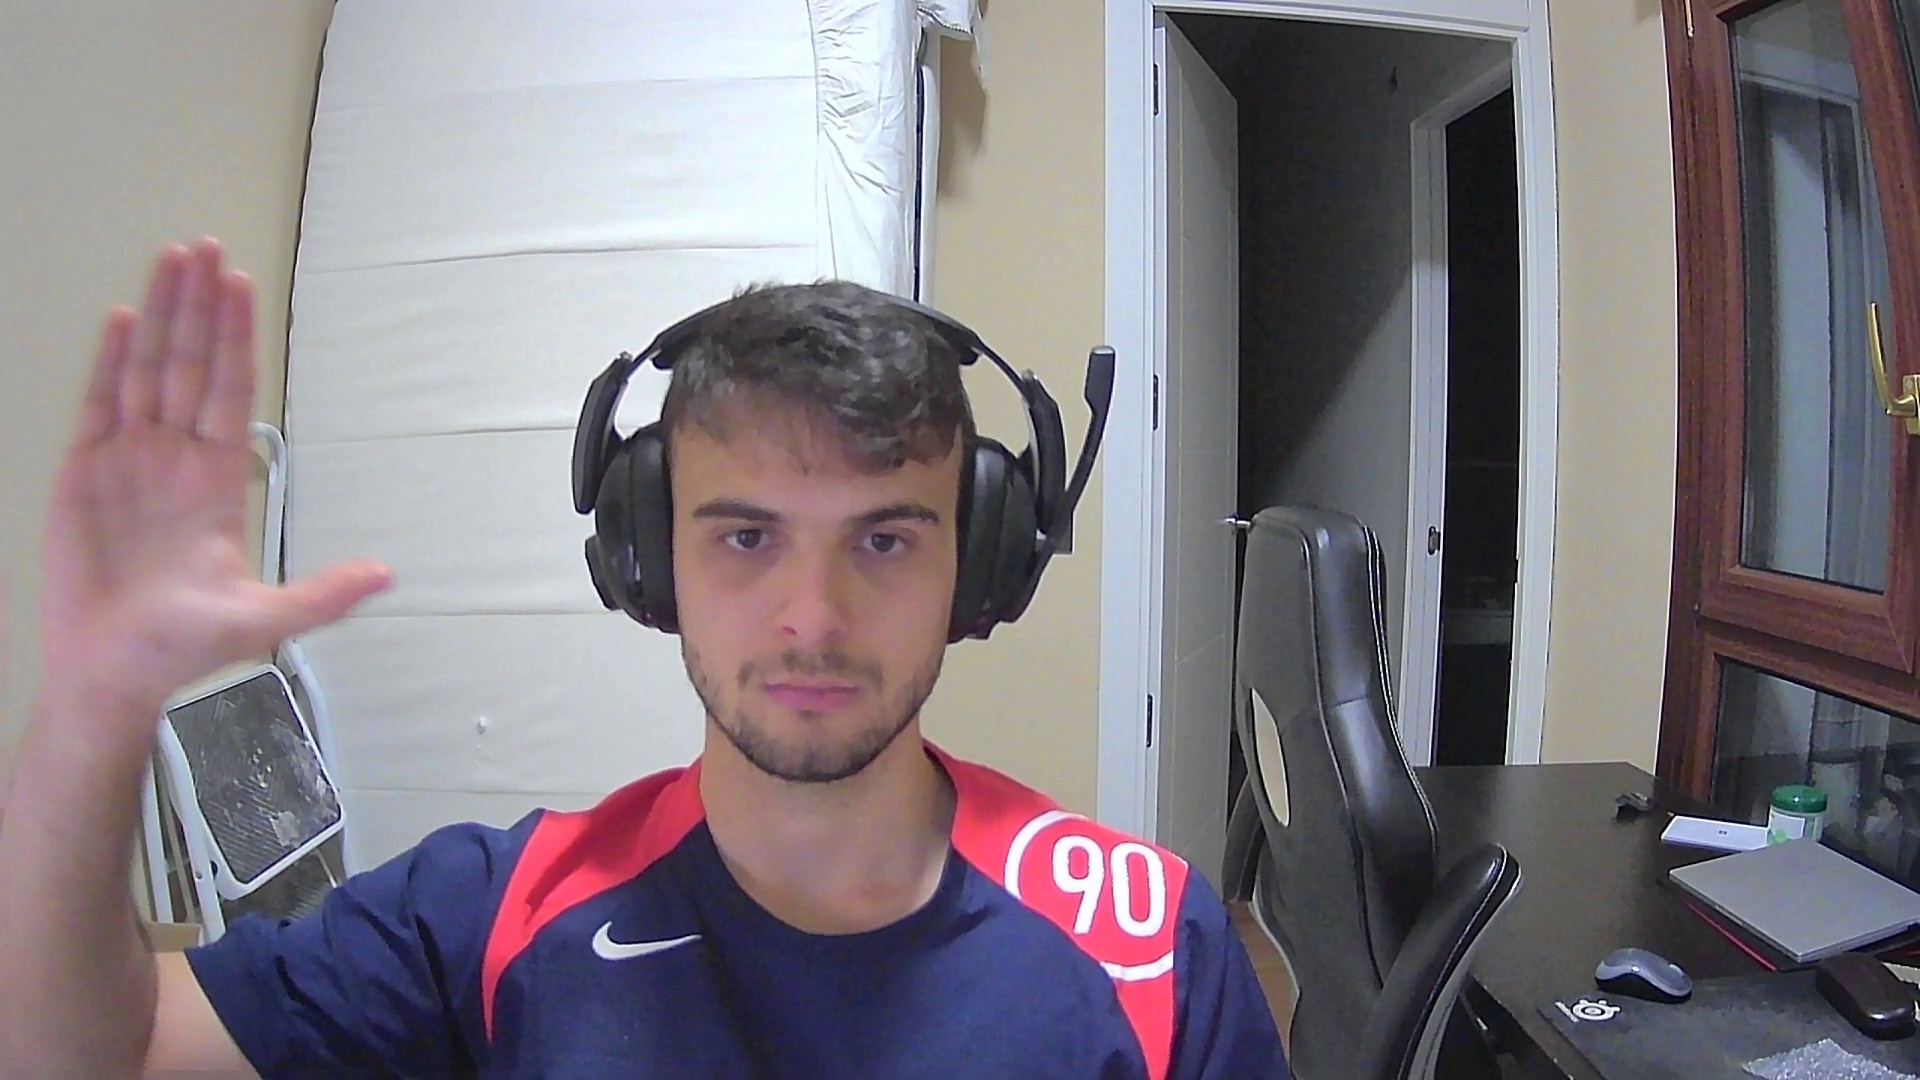Palm: (29, 229, 397, 665)
